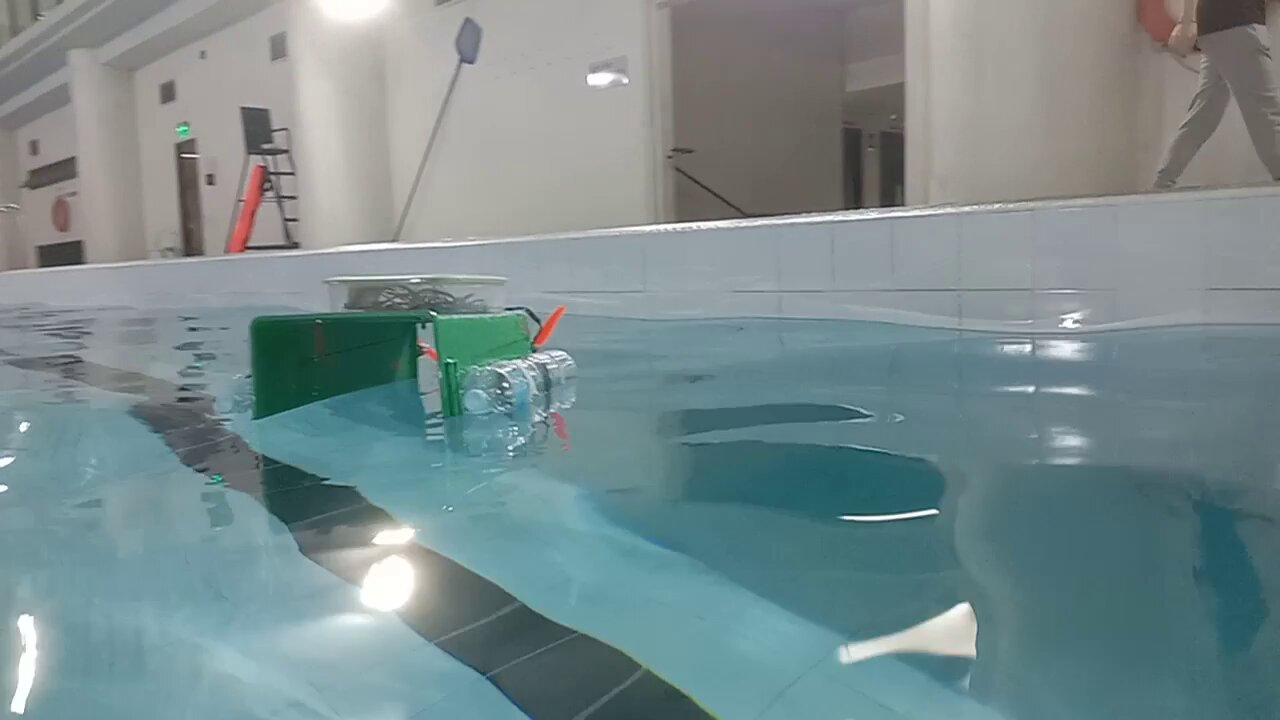drone: (209, 274, 581, 424)
